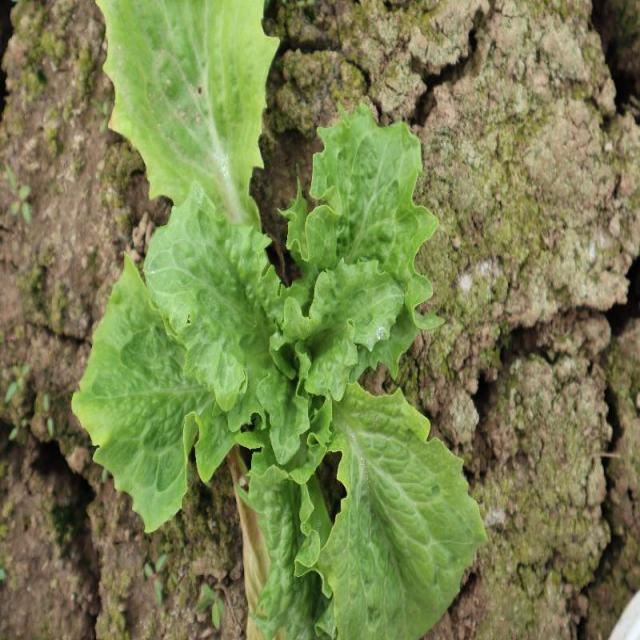crop: (70, 0, 489, 640)
